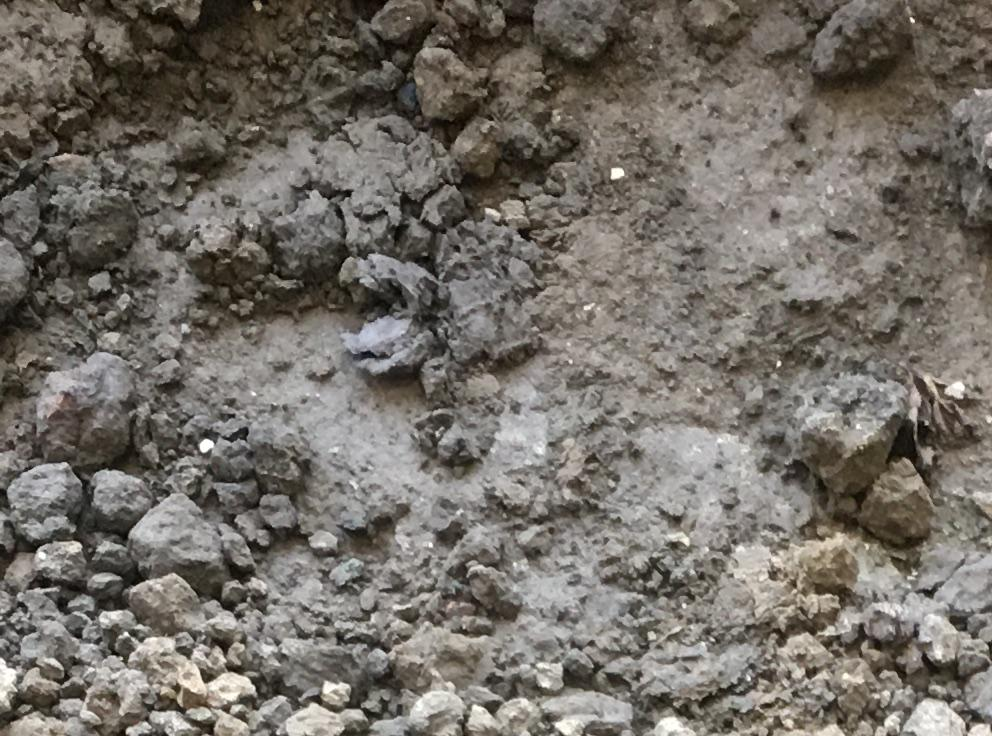block: (785, 369, 904, 497), (21, 353, 131, 466), (127, 495, 224, 592)
